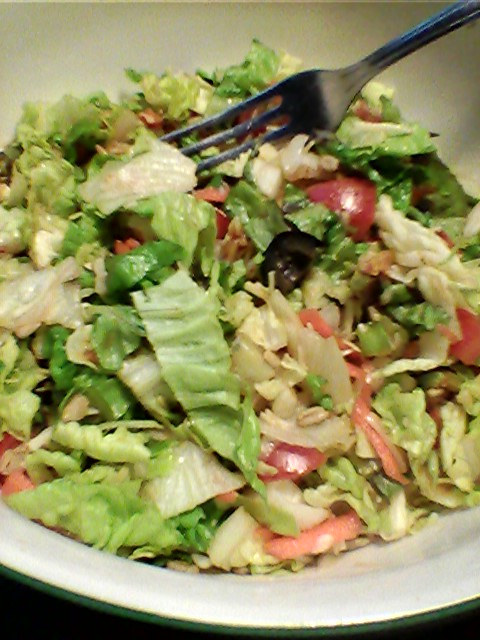chopped lettuce: (23, 85, 480, 533)
